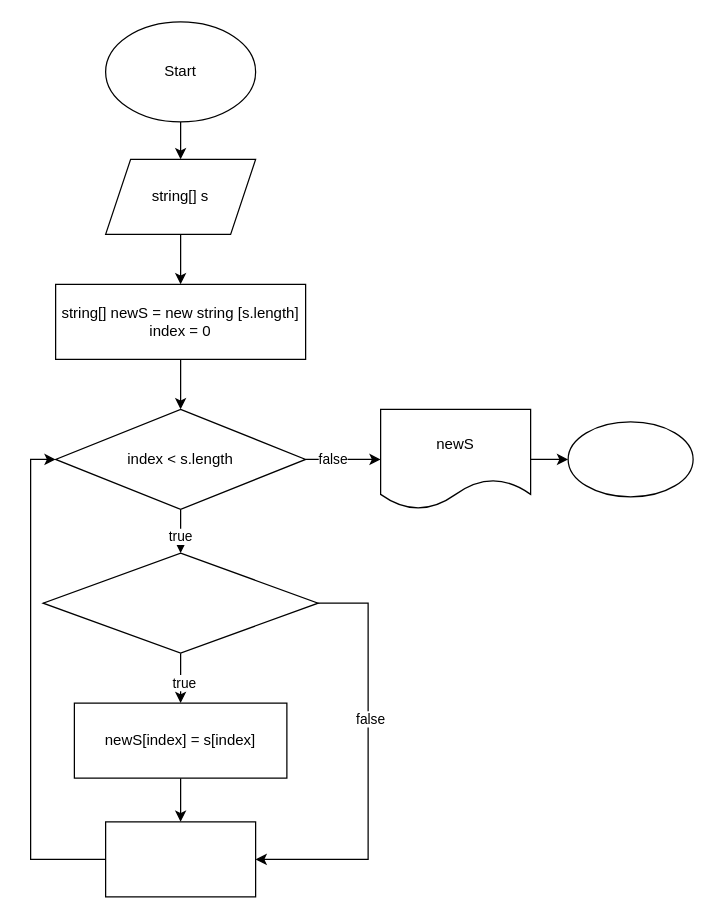
The diagram is 715 pixels wide and 919 high, and some of its shapes have lost their labels. Each missing label, with the box of its shape:
End: (567, 421, 693, 497)
index++: (104, 821, 256, 897)
s[index].length<=3: (42, 552, 318, 653)
